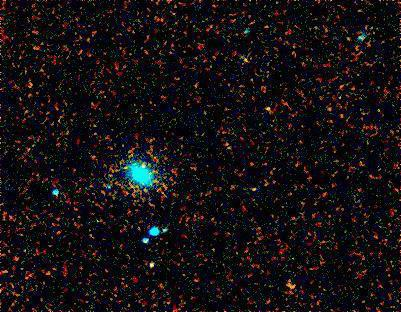star: (232, 46, 262, 76)
